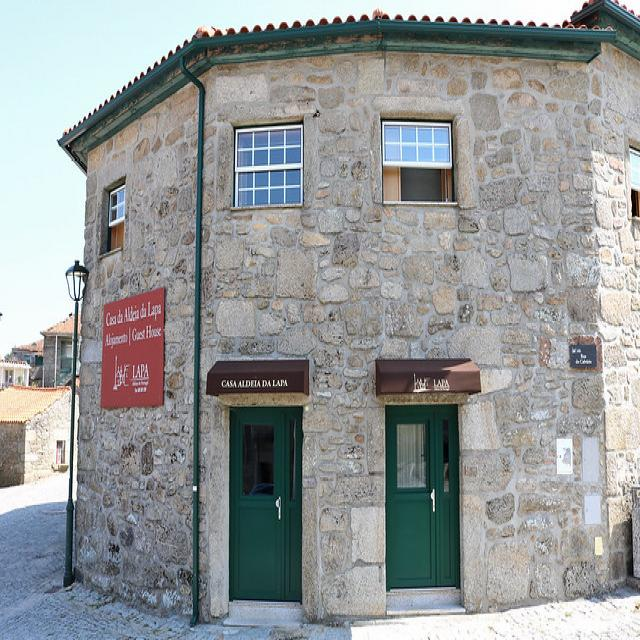Normal_building: (51, 10, 636, 627)
